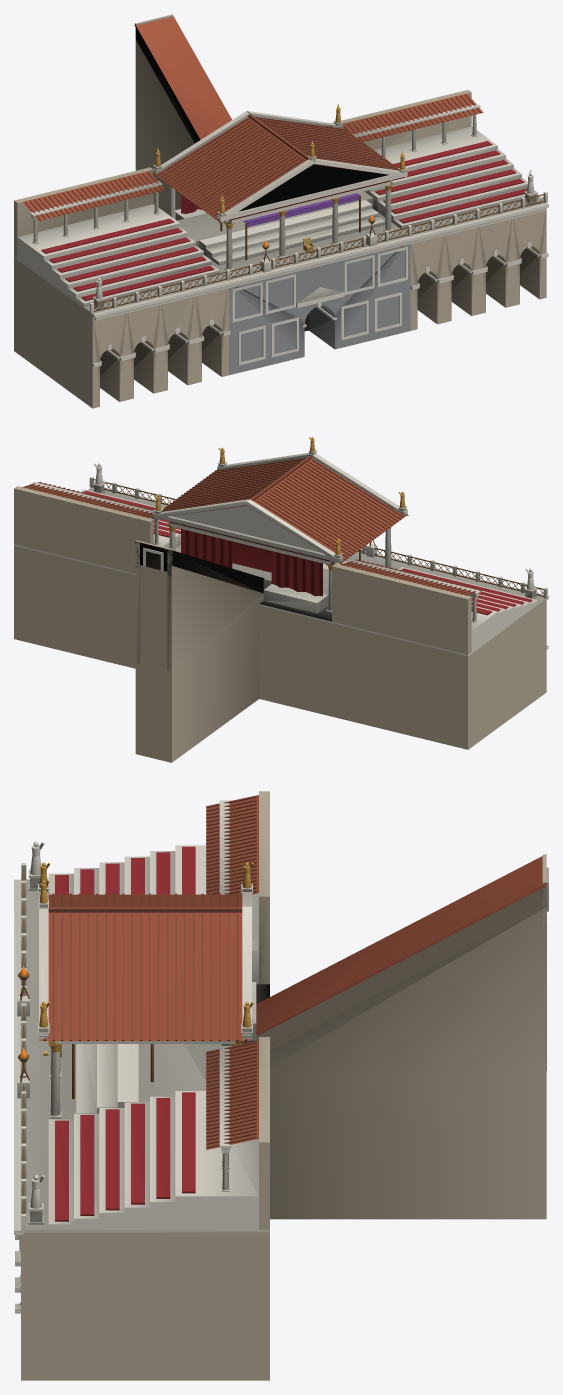
The model's file is rome_circus_pulvinar.glb.
3 renders of one model, top to bottom at view 1: azimuth 30°, elevation 25°; view 2: azimuth 150°, elevation 25°; view 3: azimuth 270°, elevation 25°, orthographic. The views are drawn at different scales.
Visible parts, largest first — view 1: rome_circus_pulvinar; view 2: rome_circus_pulvinar; view 3: rome_circus_pulvinar.
Part boxes in pixels (<box>): rome_circus_pulvinar: <box>14,14,548,408</box>; rome_circus_pulvinar: <box>14,437,548,762</box>; rome_circus_pulvinar: <box>14,791,548,1380</box>.
Size of the model in its own units: 60.36 by 26.85 by 38.66.
